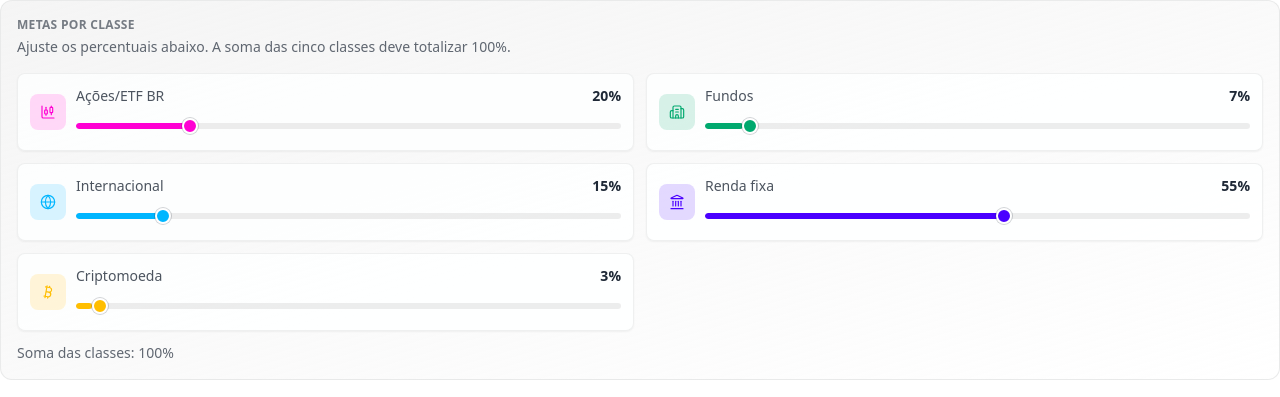
Test case: RebalanceClassTargetsEditor › atualiza percentual ao mover slider
The image size is (1280, 397).
Set the slider with test id "custom-allocation-slider-fixed_income" to "60" at (1030,216), box x1=705 y1=204 x2=1250 y2=228
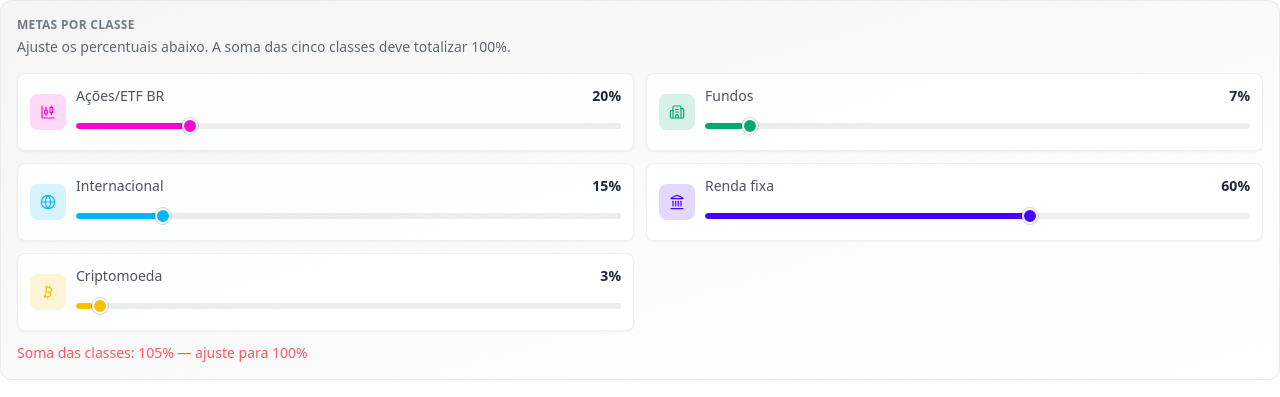
Now the text with test id "custom-allocation-sum" shows "105%", box x1=17 y1=343 x2=308 y2=362
